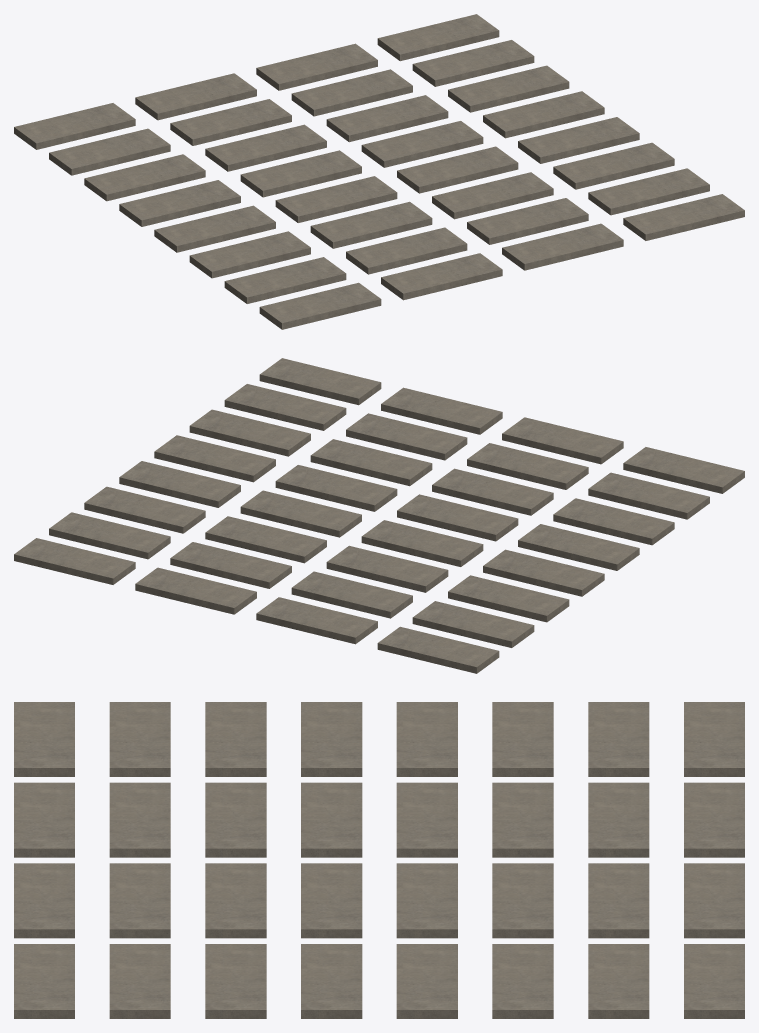
The model's file is asphalt.glb.
3 views of the same model, one above another, from view 1: azimuth 30°, elevation 25°; view 2: azimuth 150°, elevation 25°; view 3: azimuth 270°, elevation 25° (orthographic). The views are drawn at different scales.
Parts seen in each view (by area): view 1: city-block.012, city-block.019, city-block.007, city-block.018, city-block.024, city-block.006, city-block.013, city-block.025, city-block.005, city-block.026, city-block.003, city-block.010 (+20 smaller); view 2: city-block.011, city-block.020, city-block, city-block.010, city-block.021, city-block.031, city-block.001, city-block.030, city-block.002, city-block.029, city-block.004, city-block.009 (+20 smaller); view 3: city-block.010, city-block.013, city-block.018, city-block.021, city-block.009, city-block.011, city-block.012, city-block.014, city-block.017, city-block.019, city-block.020, city-block.022 (+20 smaller).
Part boxes in pixels (<box>): city-block.012: <box>275,176,397,222</box>; city-block.019: <box>361,121,483,167</box>; city-block.007: <box>259,282,381,329</box>; city-block.018: <box>326,95,448,142</box>; city-block.024: <box>377,14,499,61</box>; city-block.006: <box>224,257,346,303</box>; city-block.013: <box>310,201,432,248</box>; city-block.025: <box>412,40,534,86</box>; city-block.005: <box>189,231,310,278</box>; city-block.026: <box>448,65,569,112</box>; city-block.003: <box>119,180,240,226</box>; city-block.010: <box>205,124,326,171</box>; city-block.011: <box>361,520,483,566</box>; city-block.020: <box>275,465,397,511</box>; city-block: <box>377,626,499,673</box>; city-block.010: <box>326,545,448,592</box>; city-block.021: <box>310,439,432,486</box>; city-block.031: <box>259,358,381,405</box>; city-block.001: <box>412,601,534,647</box>; city-block.030: <box>224,384,346,430</box>; city-block.002: <box>448,575,569,622</box>; city-block.029: <box>189,409,310,456</box>; city-block.004: <box>518,524,639,570</box>; city-block.009: <box>291,571,412,618</box>; city-block.010: <box>492,782,553,857</box>; city-block.013: <box>205,782,266,857</box>; city-block.018: <box>492,863,553,938</box>; city-block.021: <box>205,863,266,938</box>; city-block.009: <box>588,782,649,857</box>; city-block.011: <box>396,782,457,857</box>; city-block.012: <box>301,782,362,857</box>; city-block.014: <box>109,782,170,857</box>; city-block.017: <box>588,863,649,938</box>; city-block.019: <box>396,863,457,938</box>; city-block.020: <box>301,863,362,938</box>; city-block.022: <box>109,863,170,938</box>.
Size of what is drawn, in the model's own units: 155 by 2.12 by 156.
Materials: 1 (1 with a texture image).
